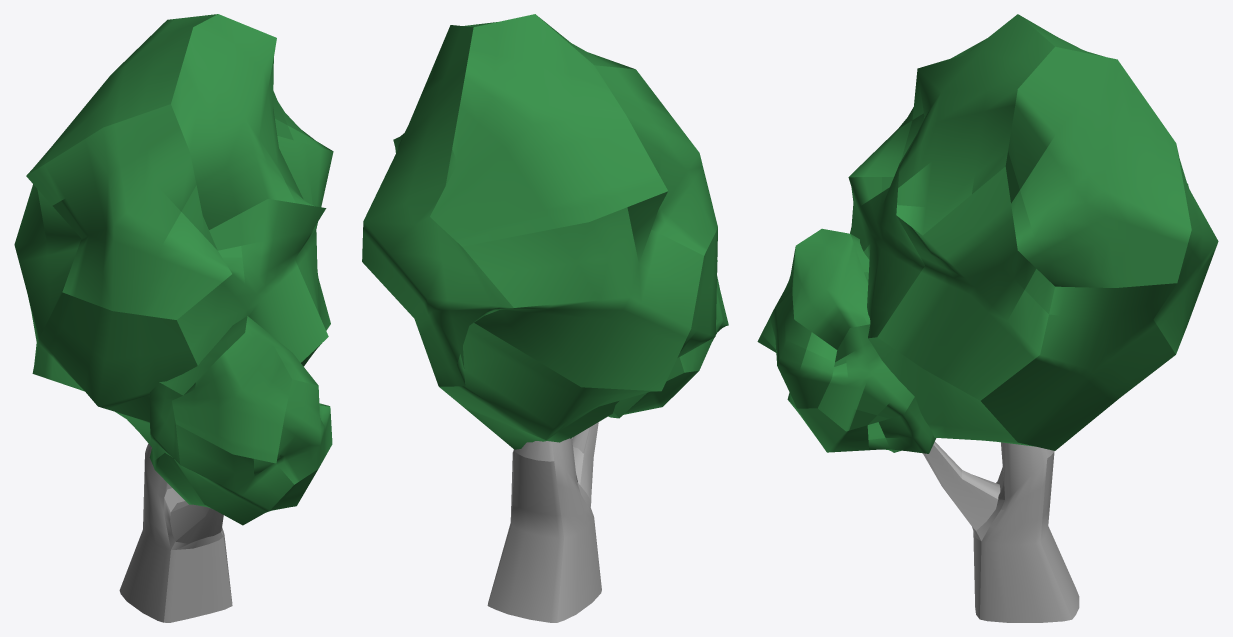
File: Tree_2.fbx
3 views of the same model, side by side, from view 1: azimuth 30°, elevation 25°; view 2: azimuth 150°, elevation 25°; view 3: azimuth 270°, elevation 25° (orthographic). The views are drawn at different scales.
Parts seen in each view (by area): view 1: pPlatonic1, pPlatonic2, pCube37; view 2: pPlatonic1, pCube37, pPlatonic2; view 3: pPlatonic1, pPlatonic2, pCube37.
Boxes of the visible parts, x1,y1,x2,y2 form: pPlatonic1: (14, 14, 333, 446); pPlatonic2: (149, 316, 332, 525); pCube37: (119, 443, 232, 622); pPlatonic1: (362, 14, 717, 449); pCube37: (487, 422, 601, 622); pPlatonic2: (608, 260, 728, 418); pPlatonic1: (848, 14, 1218, 450); pPlatonic2: (757, 228, 936, 453); pCube37: (923, 441, 1079, 622).
Bounding box in the file's own units: 2.57 × 4.76 × 3.35.
